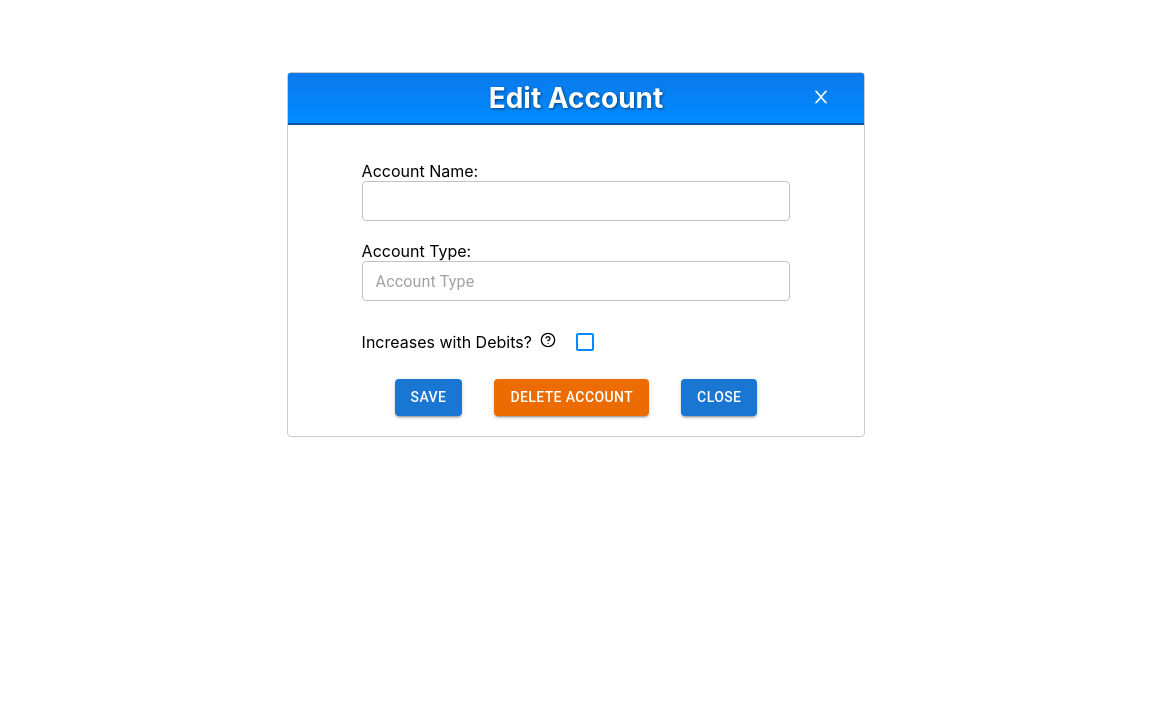
Scenario: EditAccountModal Component › "Delete Account" opens a confirmation dialog
Step 1. Click the button "Delete Account" → (572, 397), box [494,379,649,416]
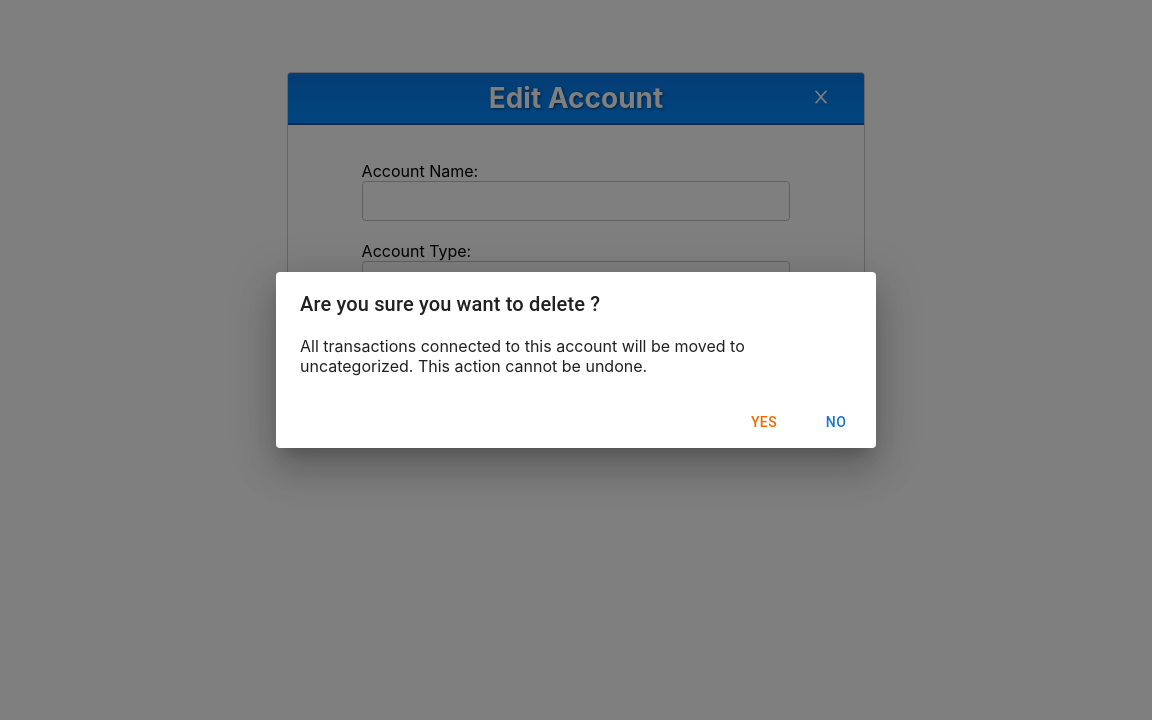
Expected: the heading "Are you sure you want to delete ?" is shown, [300,292,600,316]
